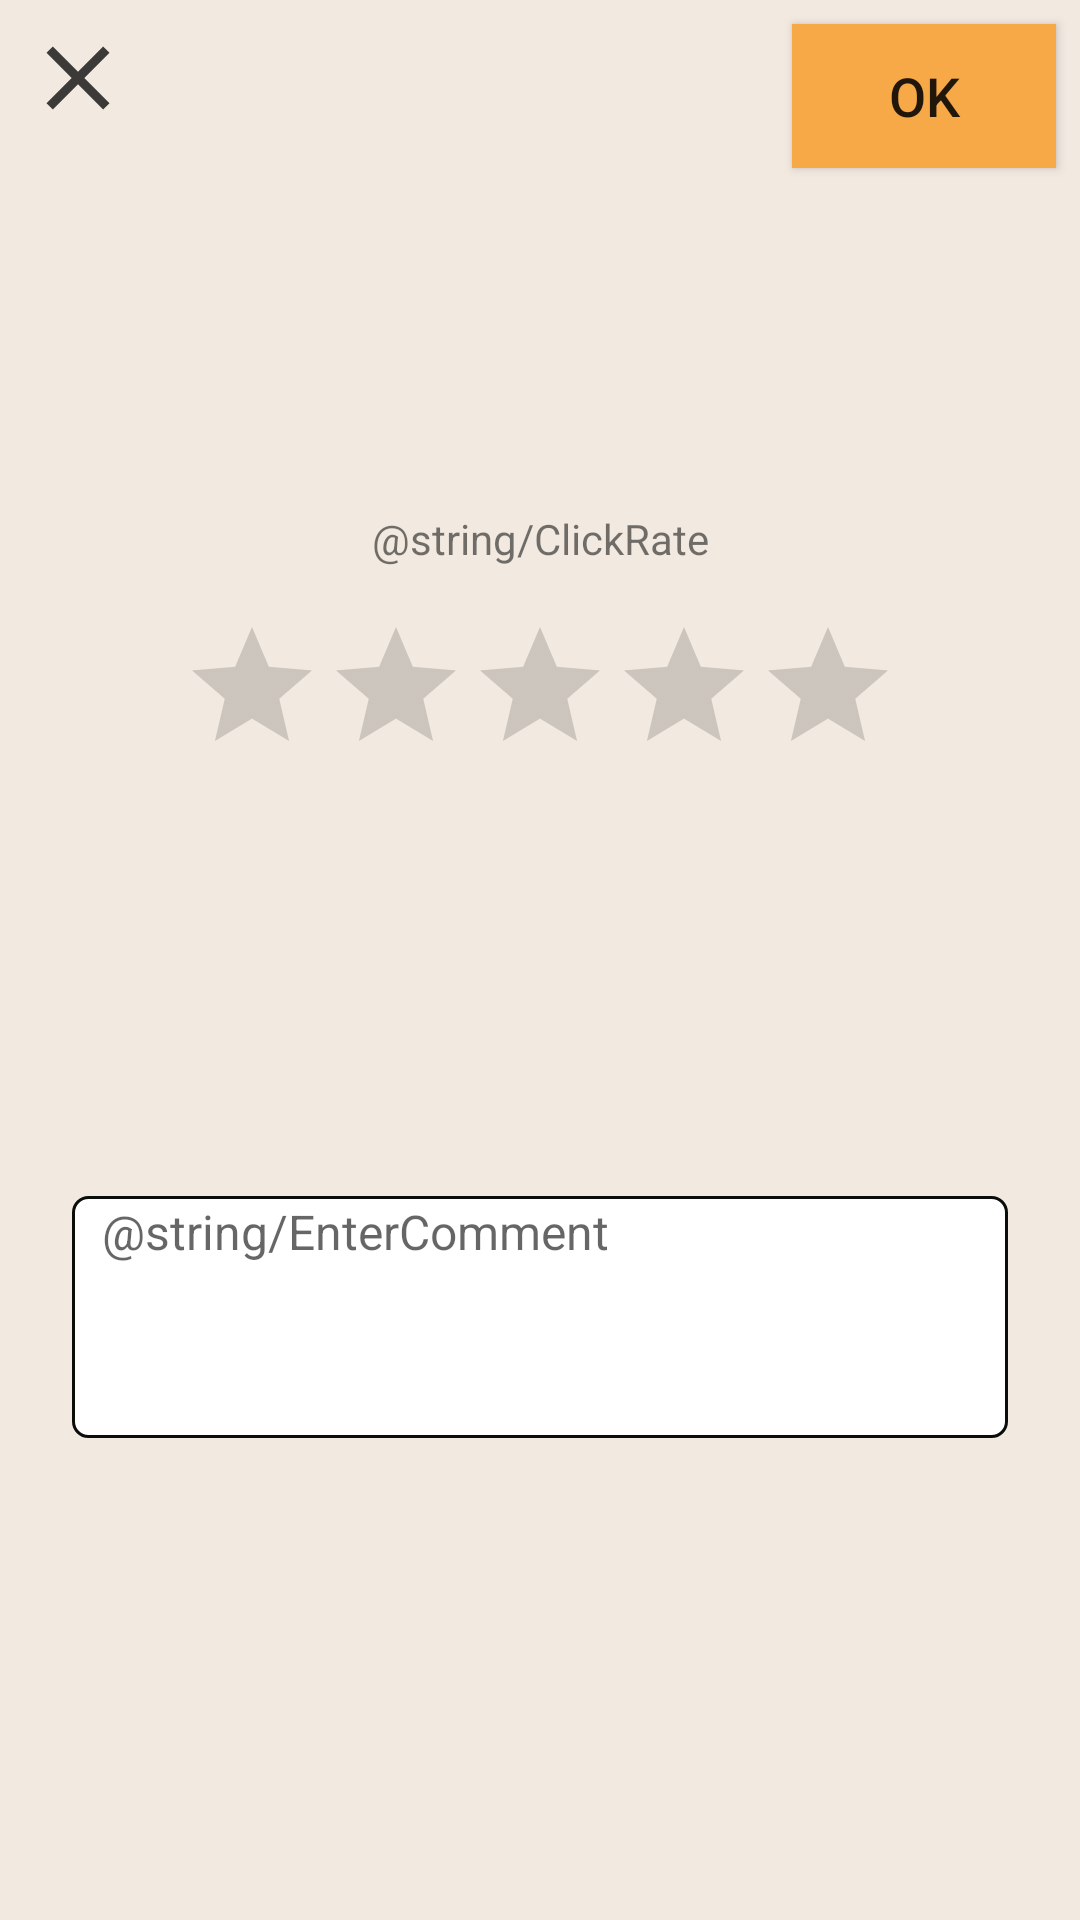

Icons on this 1080w x 1920h Android screen, each with the point to tap as (x,y):
clear: (78,78)
